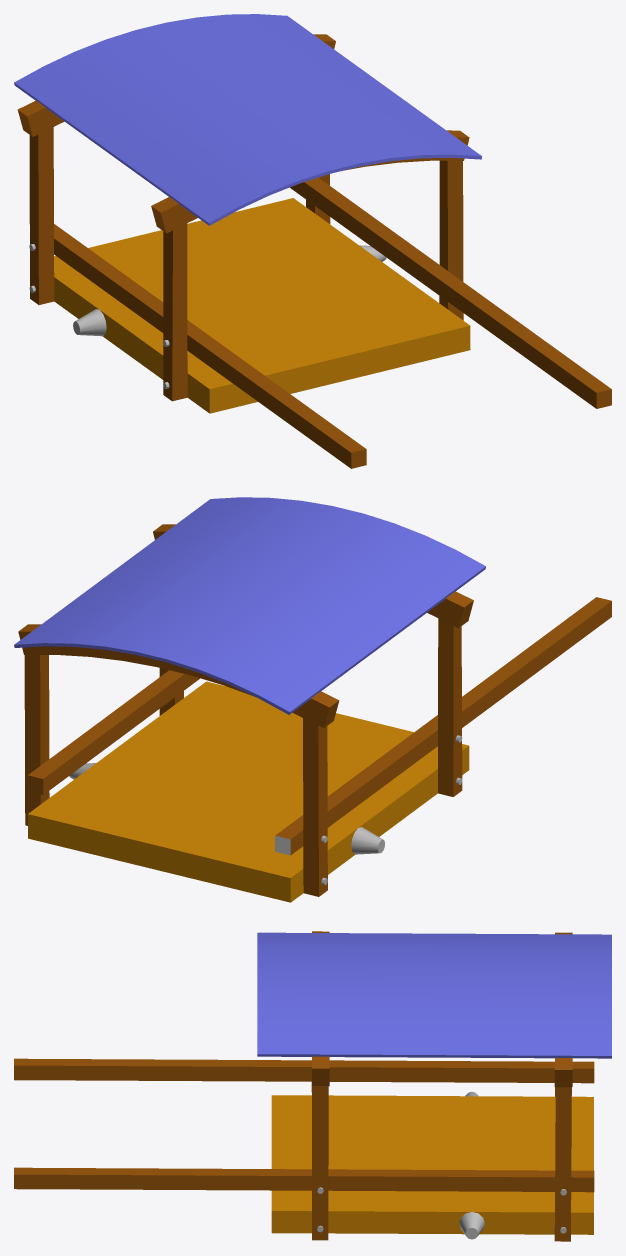
The model's file is carro sin rueda.fbx.
3 renders of one model, top to bottom at view 1: azimuth 30°, elevation 25°; view 2: azimuth 150°, elevation 25°; view 3: azimuth 270°, elevation 25°, orthographic. The views are drawn at different scales.
Parts seen in each view (by area): view 1: Frame, Roof, TopFrameBar, TopFrameBar.001, WheelNut.001; view 2: Frame, Roof, TopFrameBar.001, TopFrameBar, WheelNut.001; view 3: Frame, Roof, TopFrameBar.001, TopFrameBar, WheelNut.
Part boxes in pixels (x1,y1,x2,y2): Frame: (29,127,611,468); Roof: (14,14,482,225); TopFrameBar: (151,130,469,233); TopFrameBar.001: (17,34,335,136); WheelNut.001: (73,309,106,336); Frame: (24,597,611,902); Roof: (14,497,485,714); TopFrameBar.001: (18,624,339,727); TopFrameBar: (153,524,473,628); WheelNut.001: (351,827,384,854); Frame: (14,1058,594,1241); Roof: (257,932,611,1058); TopFrameBar.001: (554,932,572,1087); TopFrameBar: (311,931,329,1086); WheelNut: (459,1212,484,1239).
Bounding box in the file's own units: 1012 × 697 × 1855.
